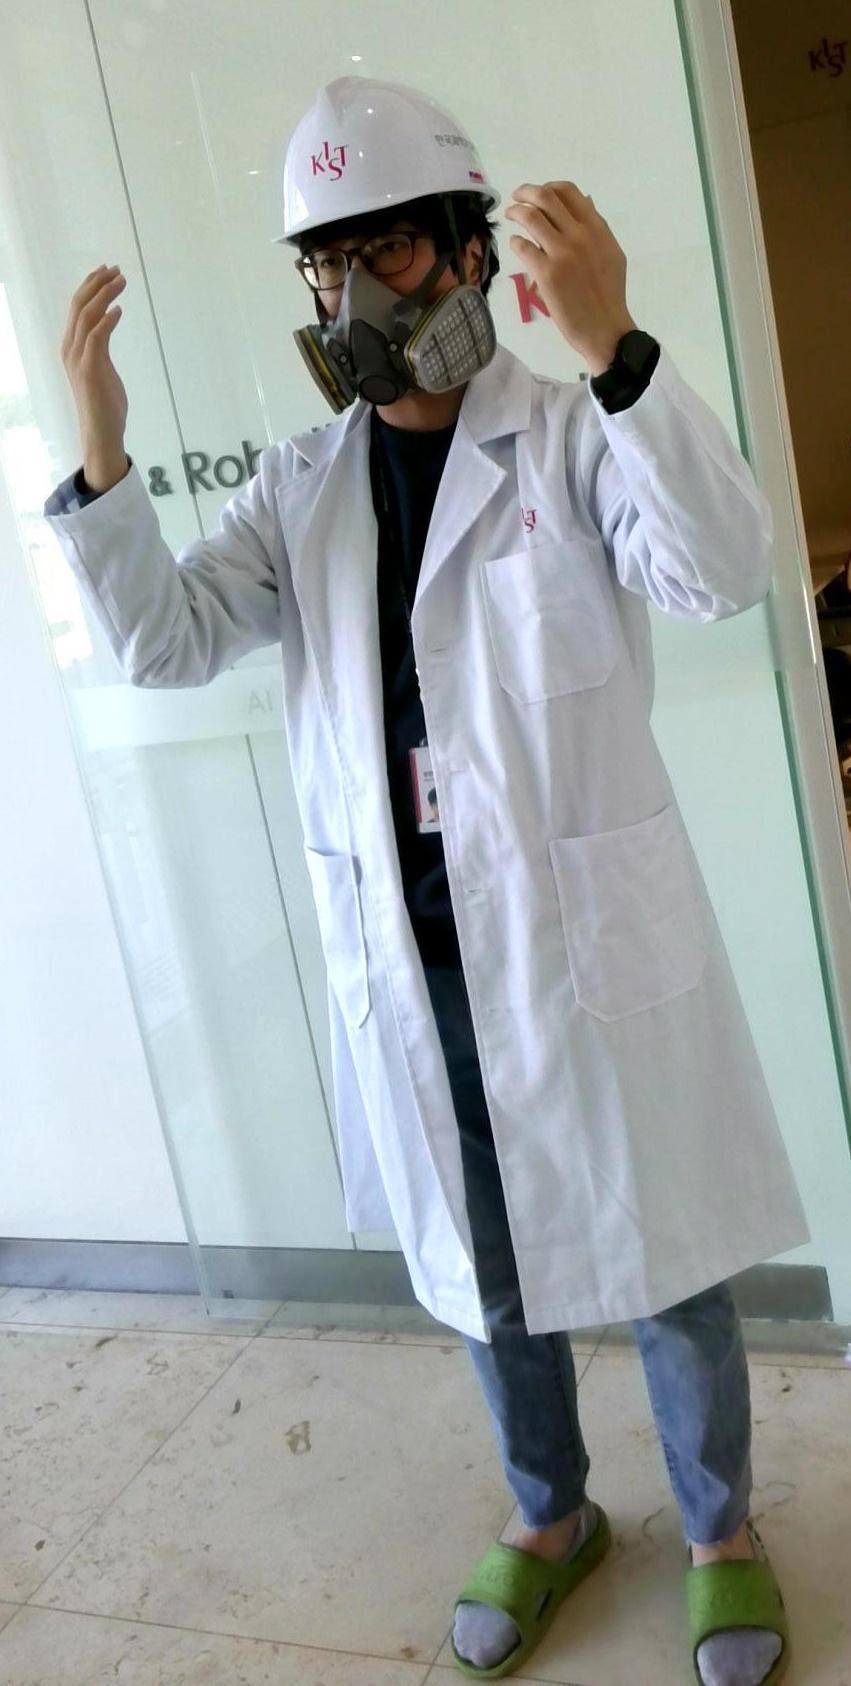lab_coat: (276, 381, 755, 1262)
